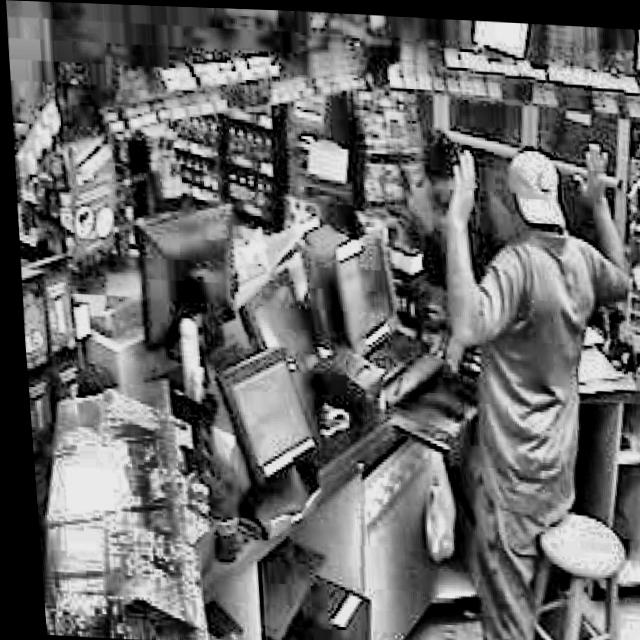robbery: (390, 126, 637, 352)
